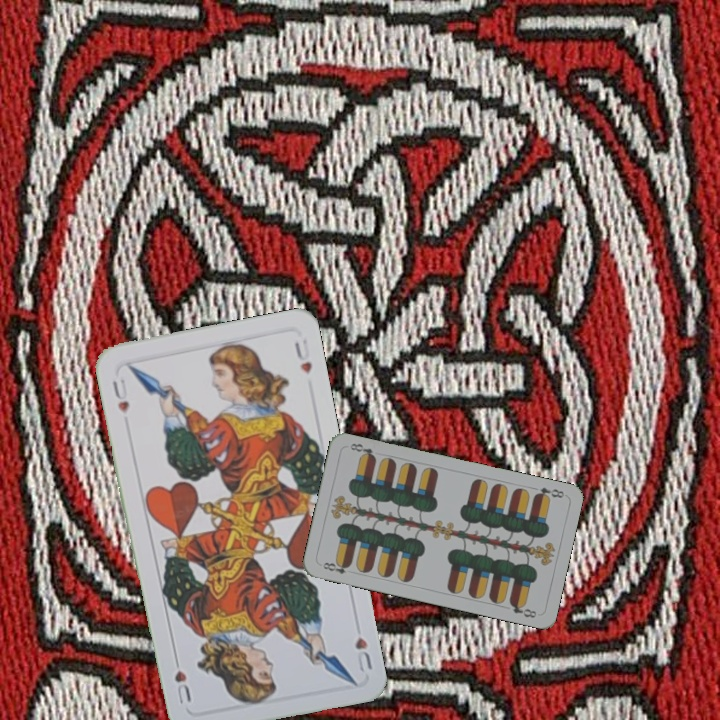E8: (530, 483, 567, 502), (317, 558, 353, 577)
HU: (108, 374, 132, 416), (351, 634, 375, 674)
